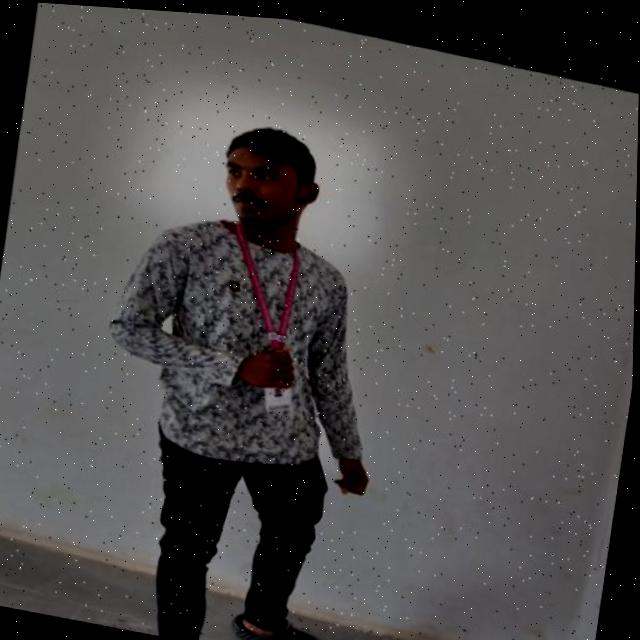id_card: (208, 219, 334, 417)
